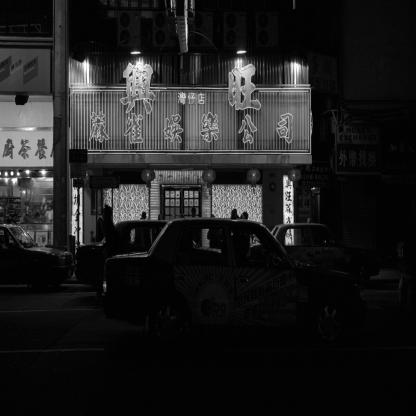Car: (102, 219, 363, 350), (77, 218, 222, 295), (1, 224, 75, 295), (270, 220, 350, 276), (398, 259, 416, 326), (257, 225, 284, 245)
